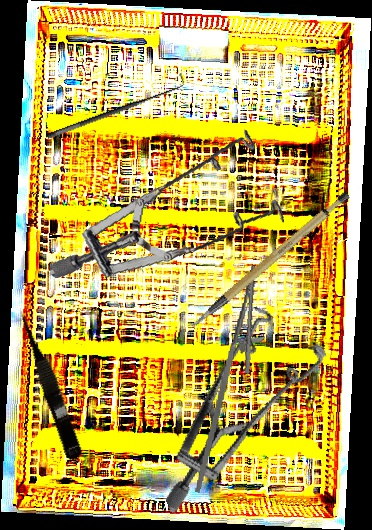Hook Surgical: (42, 72, 188, 141)
Micro Scissor: (13, 304, 88, 463)
Needle Holder: (194, 261, 274, 499)
Scalpel Handle: (173, 188, 366, 329)
Speculum: (111, 288, 360, 515), (47, 105, 296, 308)
